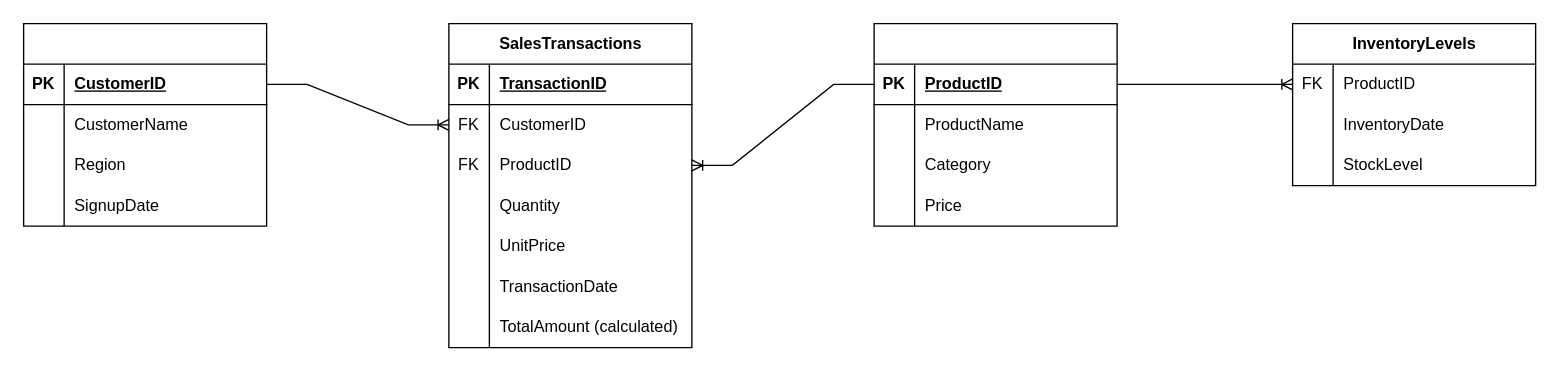
This 1559x371 diagram has some shape labels left out. Each missing label, with the box of its shape:
Customers: (22, 22, 267, 226)
Products: (873, 22, 1117, 226)
